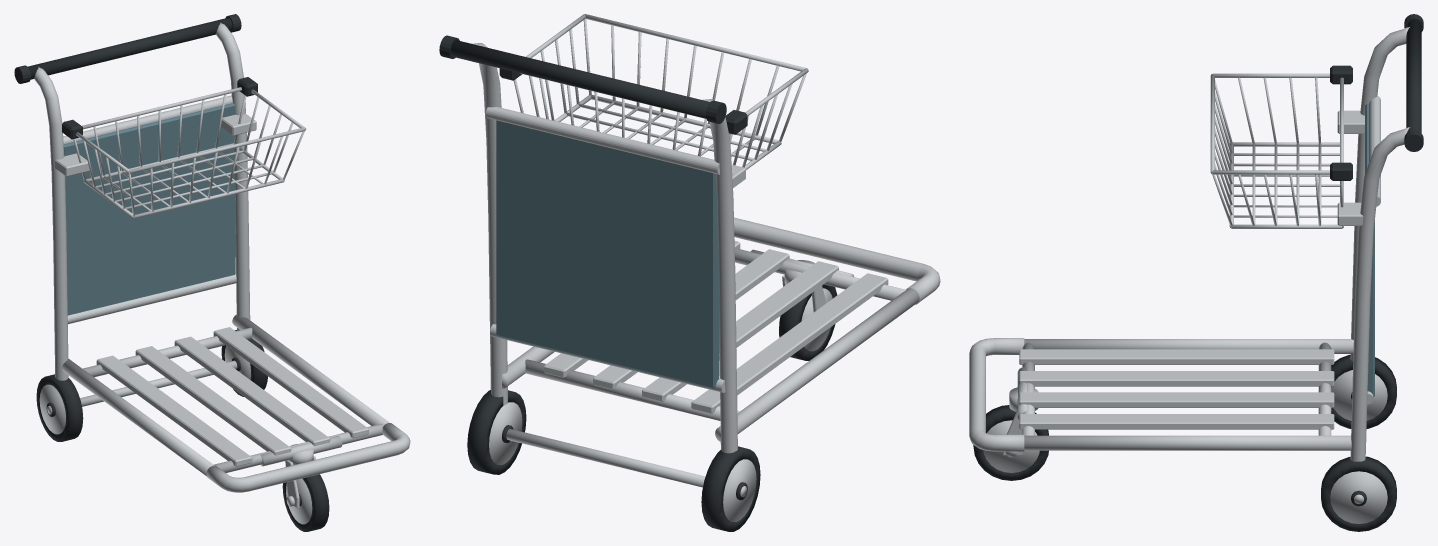
The model's file is full.glb.
3 renders of one model, left to right at view 1: azimuth 30°, elevation 25°; view 2: azimuth 150°, elevation 25°; view 3: azimuth 270°, elevation 25°, orthographic. The views are drawn at different scales.
Visible parts, largest first — view 1: Blank rectangular advertising panel, Upright post -1, Rounded front U bumper, Upright post 1, Long deck slat 0, Long deck slat 3, Long deck slat 1, Long deck slat 2, Wide push brake bar, Longitudinal deck frame -1, Longitudinal deck frame 1, Lower panel support (+14 smaller); view 2: Blank rectangular advertising panel, Upright post -1, Wide push brake bar, Long deck slat 0, Rounded front U bumper, Longitudinal deck frame -1, Upright post 1, Upper panel support, Long deck slat 1, Rear continuous axle, Rear left tyre, Rear right tyre (+13 smaller); view 3: Upright post 1, Longitudinal deck frame 1, Long deck slat 0, Long deck slat 3, Long deck slat 2, Long deck slat 1, Longitudinal deck frame -1, Rounded front U bumper, Upright post -1, Rear right tyre, Rear right solid hub, Wide push brake bar (+11 smaller).
Boxes of the visible parts, <box> form: Blank rectangular advertising panel: <box>63,103,235,315</box>; Upright post -1: <box>34,67,68,380</box>; Rounded front U bumper: <box>206,423,410,492</box>; Upright post 1: <box>216,22,250,330</box>; Long deck slat 0: <box>96,355,252,466</box>; Long deck slat 3: <box>213,327,368,438</box>; Long deck slat 1: <box>135,346,291,455</box>; Long deck slat 2: <box>174,336,330,446</box>; Wide push brake bar: <box>28,18,232,79</box>; Longitudinal deck frame -1: <box>62,358,213,476</box>; Longitudinal deck frame 1: <box>232,314,389,425</box>; Lower panel support: <box>67,273,236,324</box>; Blank rectangular advertising panel: <box>496,120,719,388</box>; Upright post -1: <box>701,99,737,453</box>; Wide push brake bar: <box>450,40,709,118</box>; Long deck slat 0: <box>691,273,888,413</box>; Rounded front U bumper: <box>734,217,940,304</box>; Longitudinal deck frame -1: <box>715,288,919,441</box>; Upright post 1: <box>470,43,507,405</box>; Upper panel support: <box>485,107,719,174</box>; Long deck slat 1: <box>642,261,838,401</box>; Rear continuous axle: <box>506,429,746,497</box>; Rear left tyre: <box>701,446,760,531</box>; Rear right tyre: <box>467,390,526,474</box>; Upright post 1: <box>1350,127,1410,461</box>; Longitudinal deck frame 1: <box>1024,435,1351,450</box>; Long deck slat 0: <box>1019,349,1334,364</box>; Long deck slat 3: <box>1019,414,1334,429</box>; Long deck slat 2: <box>1019,392,1334,407</box>; Long deck slat 1: <box>1019,371,1334,386</box>; Longitudinal deck frame -1: <box>1024,339,1353,353</box>; Rounded front U bumper: <box>969,338,1024,451</box>; Upright post -1: <box>1350,27,1409,360</box>; Rear right tyre: <box>1321,456,1396,531</box>; Rear right solid hub: <box>1330,471,1387,523</box>; Wide push brake bar: <box>1406,20,1421,132</box>.
Size of the model in its own units: 0.673 by 1.05 by 1.07.
